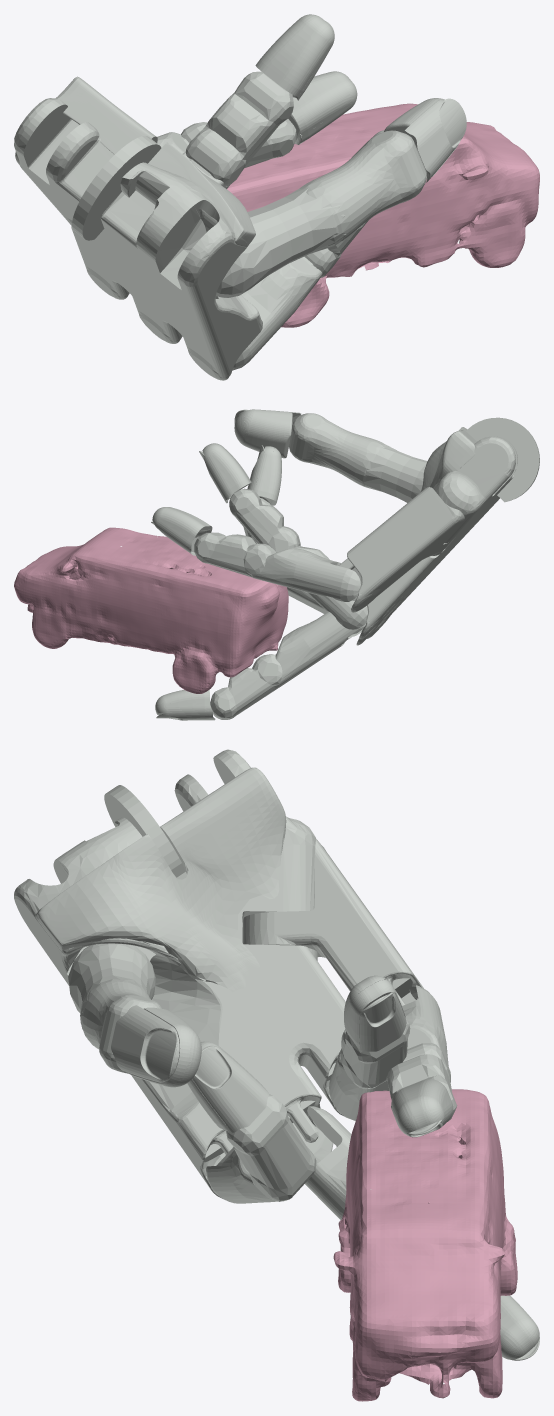
3 views of the same model, one above another, from view 1: azimuth 30°, elevation 25°; view 2: azimuth 150°, elevation 25°; view 3: azimuth 270°, elevation 25° (orthographic). The views are drawn at different scales.
Parts seen in each view (by area): view 1: hand, world; view 2: hand, world; view 3: hand, world.
Part boxes in pixels (x1,y1,x2,y2): hand: [14, 14, 466, 380]; world: [227, 103, 539, 327]; hand: [151, 409, 539, 720]; world: [14, 527, 288, 693]; hand: [14, 749, 539, 1360]; world: [333, 1089, 517, 1401].
Size of the model in its own units: 0.2244 by 0.1413 by 0.1543.
